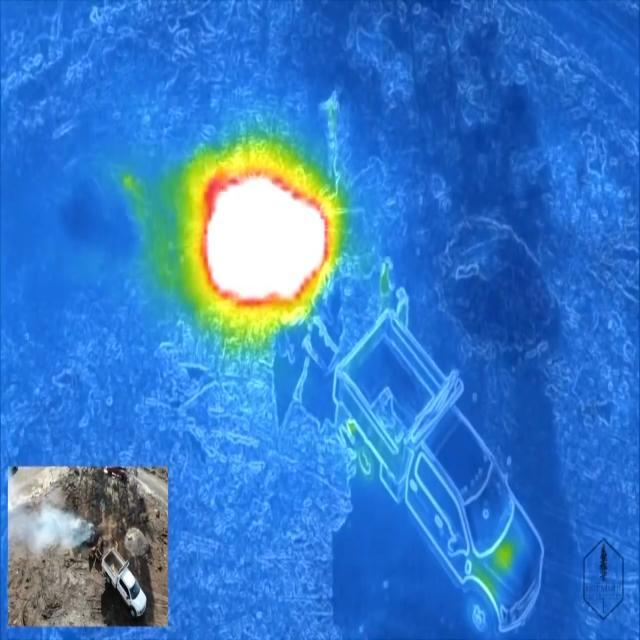fire: (186, 143, 339, 328)
